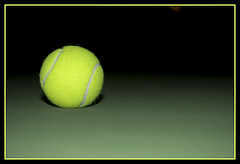tennis ball: (34, 42, 107, 111)
